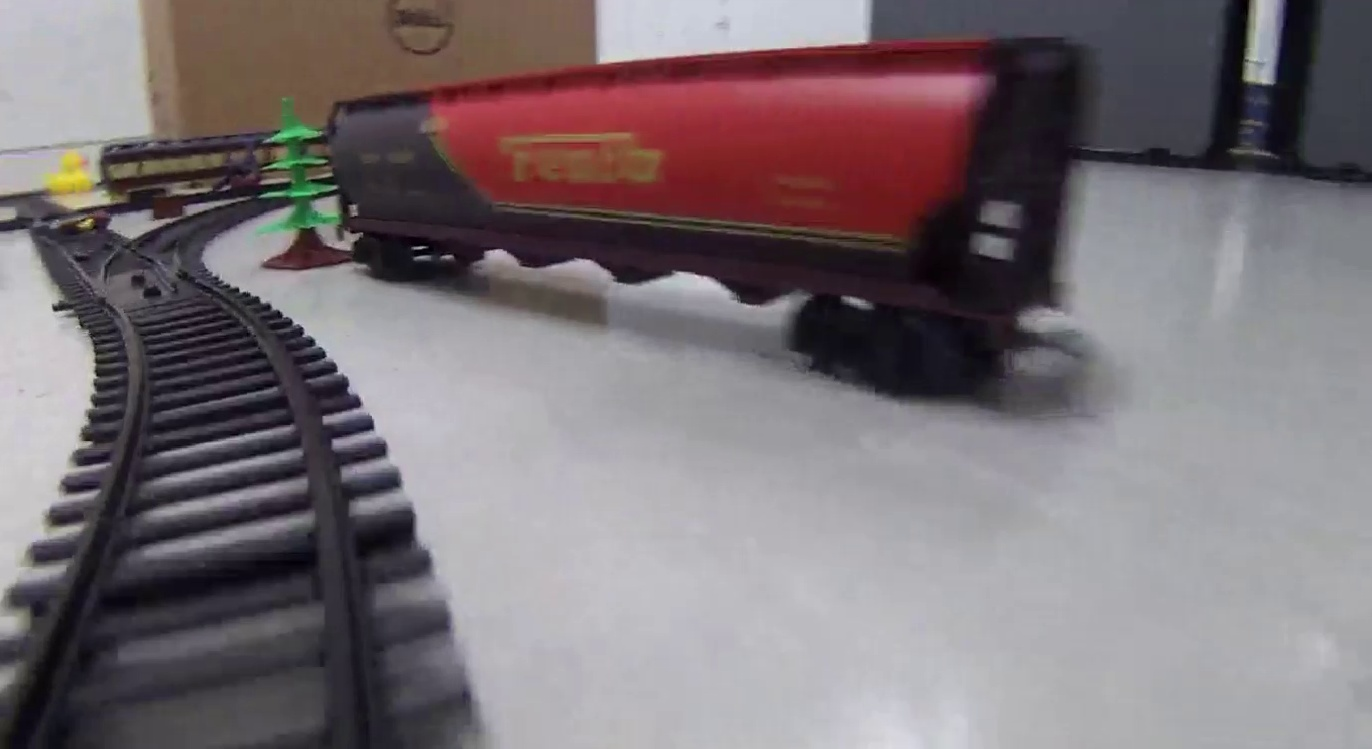tree: (262, 96, 330, 269)
